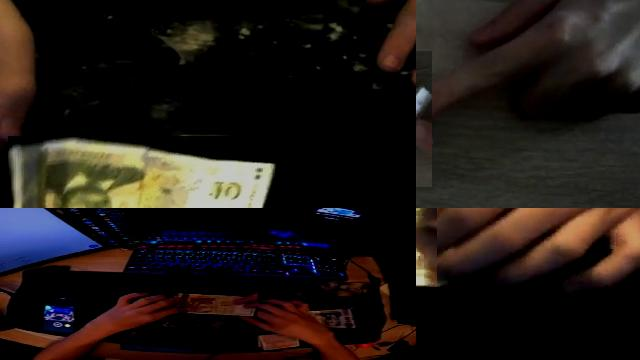10leva: (8, 136, 276, 208)
50leva: (177, 292, 257, 317)
